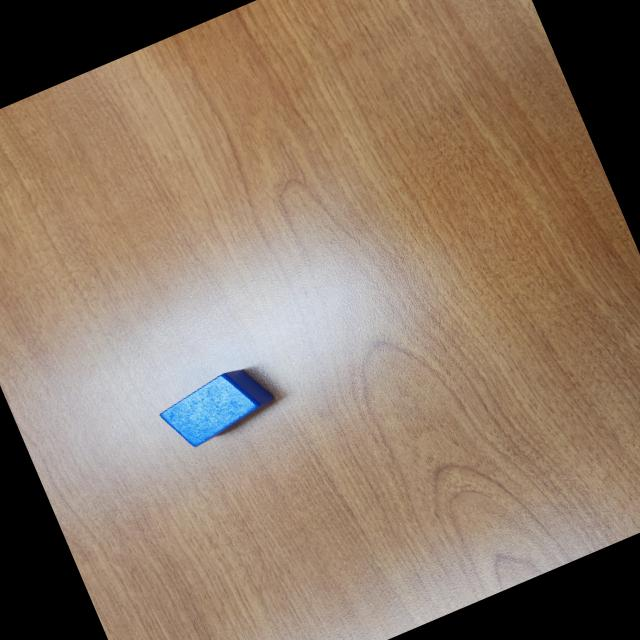blue: (153, 356, 284, 456)
